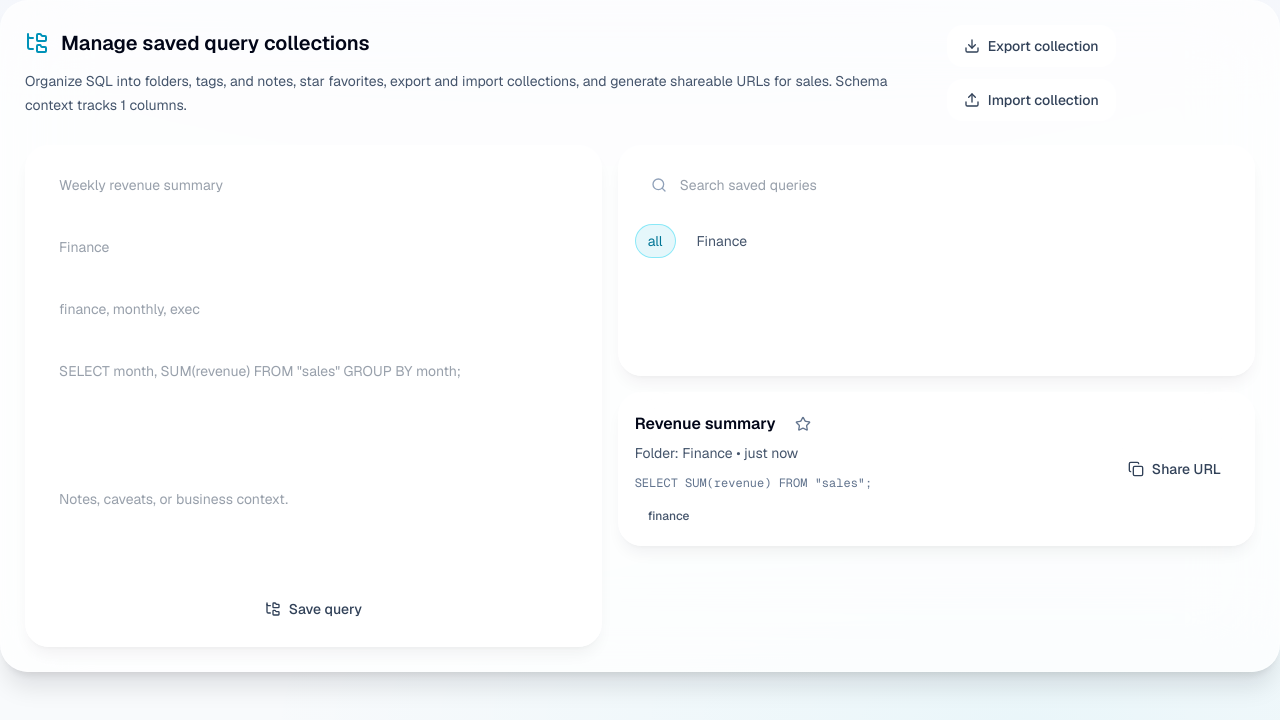
SavedQueryManager › copies a share URL for saved queries
Click the button "Share URL".
click(1174, 469)  # box [1111,448,1238,490]
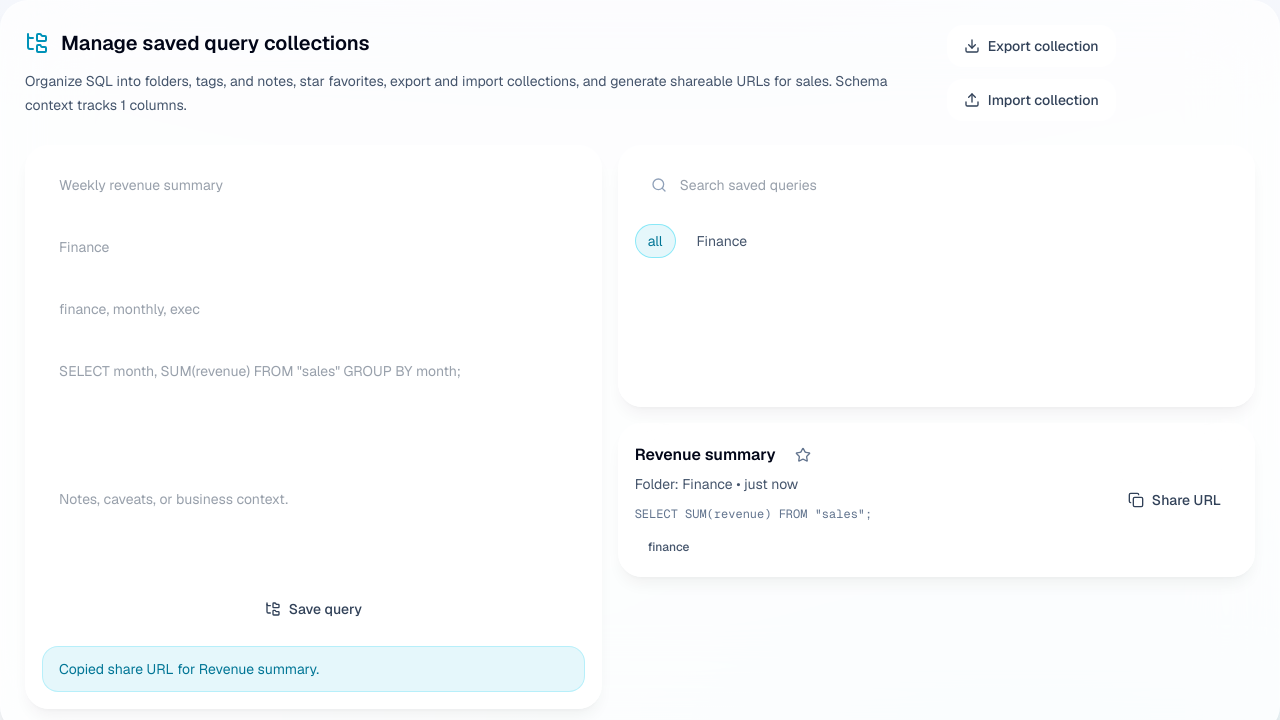
Expected: the text "Copied share URL for Revenue summary." is shown, [42,646,585,692]
